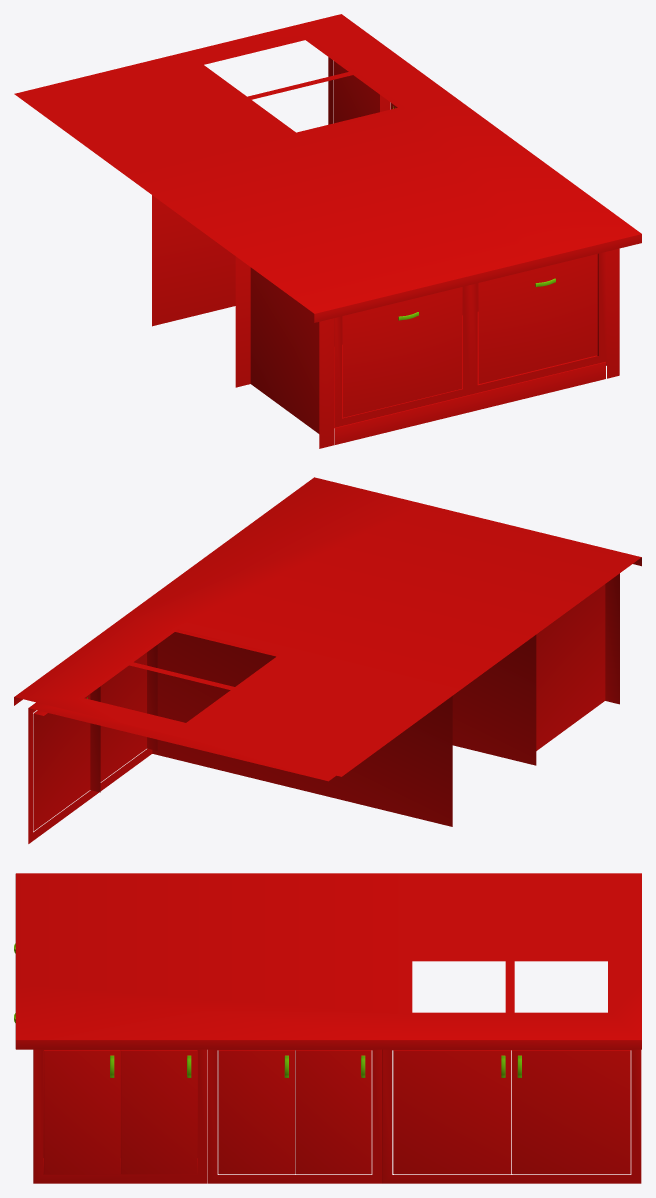
Rendered from countertop_1_new.fbx.
3 renders of one model, top to bottom at view 1: azimuth 30°, elevation 25°; view 2: azimuth 150°, elevation 25°; view 3: azimuth 270°, elevation 25°, orthographic. The views are drawn at different scales.
Visible parts, largest first — view 1: countertop_1; view 2: countertop_1; view 3: countertop_1.
Part boxes in pixels (<box>): countertop_1: <box>14,14,641,448</box>; countertop_1: <box>14,477,641,843</box>; countertop_1: <box>14,873,641,1183</box>.
Size of the model in its own units: 26.58 by 42.31 by 11.2.
